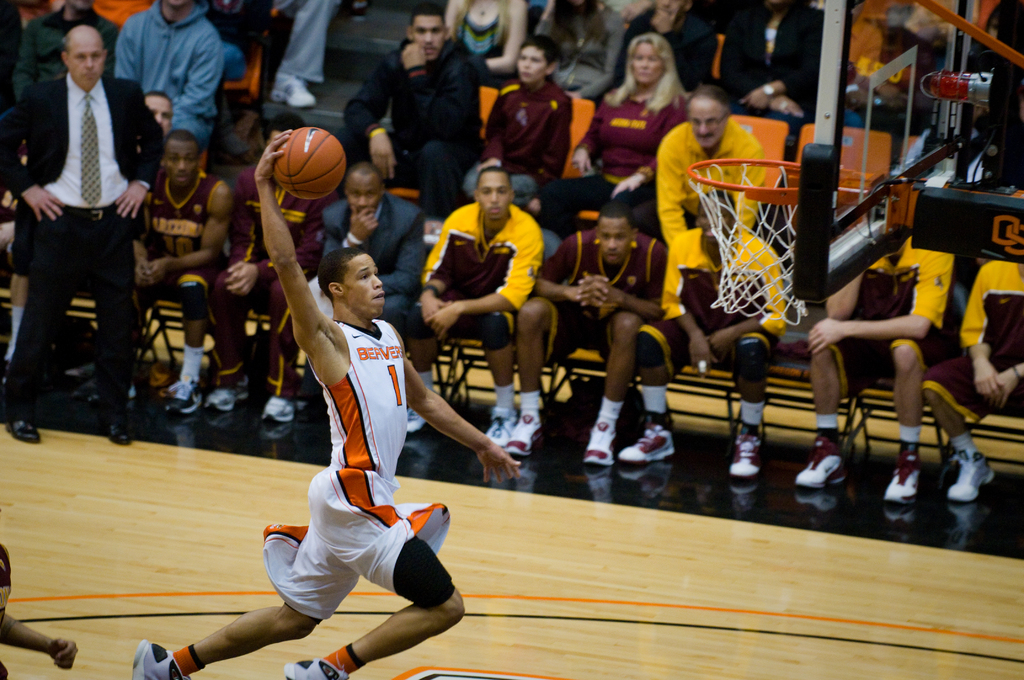Ball: (271, 132, 344, 208)
